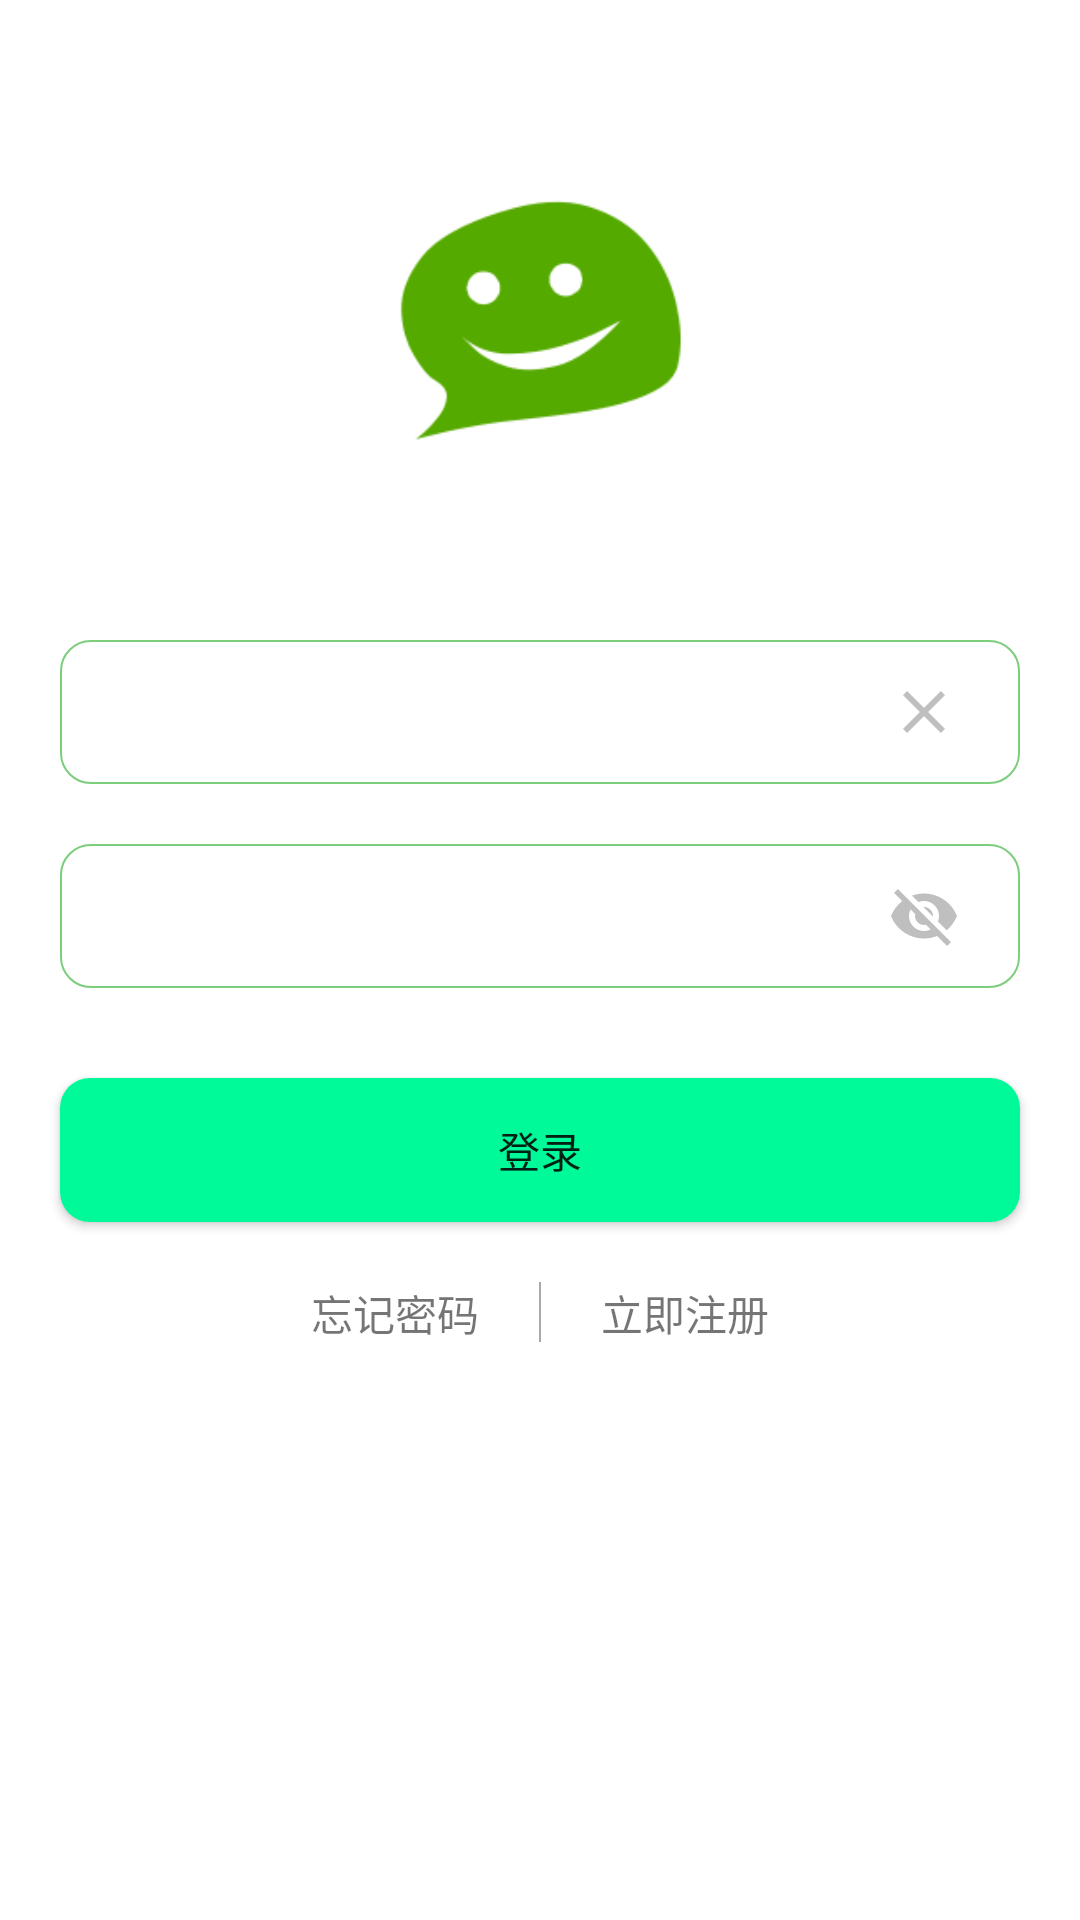

Locate icon controls on the screen. Image size 1080px x 1920px, boxes as (x1, y1, x2, y2).
smileface: (400, 201, 681, 440)
